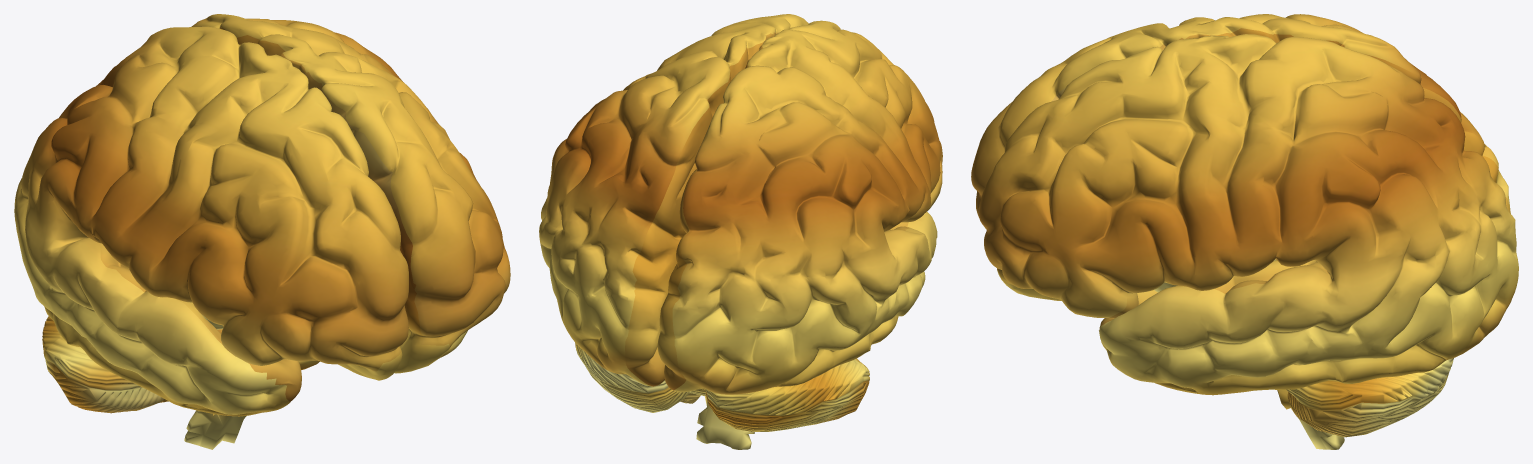
The model's file is GoldBrain.glb.
3 renders of one model, left to right at view 1: azimuth 30°, elevation 25°; view 2: azimuth 150°, elevation 25°; view 3: azimuth 270°, elevation 25°, orthographic. The views are drawn at different scales.
Parts seen in each view (by area): view 1: Brain_Part_06, Brain_Part_04, Brain_Part_02, Brain_Part_05; view 2: Brain_Part_06, Brain_Part_04, Brain_Part_02, Brain_Part_05; view 3: Brain_Part_04, Brain_Part_06, Brain_Part_02, Brain_Part_05.
Part boxes in pixels (x1=…): Brain_Part_06: x1=14, y1=26, x2=408, y2=416; Brain_Part_04: x1=191, y1=14, x2=510, y2=373; Brain_Part_02: x1=42, y1=316, x2=168, y2=413; Brain_Part_05: x1=184, y1=315, x2=246, y2=449; Brain_Part_06: x1=657, y1=20, x2=942, y2=394; Brain_Part_04: x1=539, y1=14, x2=808, y2=386; Brain_Part_02: x1=575, y1=343, x2=869, y2=431; Brain_Part_05: x1=696, y1=396, x2=754, y2=449; Brain_Part_04: x1=978, y1=34, x2=1518, y2=395; Brain_Part_06: x1=971, y1=14, x2=1510, y2=229; Brain_Part_02: x1=1286, y1=358, x2=1453, y2=437; Brain_Part_05: x1=1154, y1=259, x2=1344, y2=449.
Bounding box in the file's own units: 108 × 115 × 136.
1 material, 1 textured.
